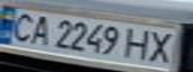2: (48, 16, 75, 51), (66, 19, 87, 53)
4: (84, 21, 106, 55)
9: (100, 24, 127, 57)
A: (24, 12, 57, 47)
C: (3, 10, 42, 43)
H: (121, 26, 157, 62)
X: (142, 28, 184, 65)
